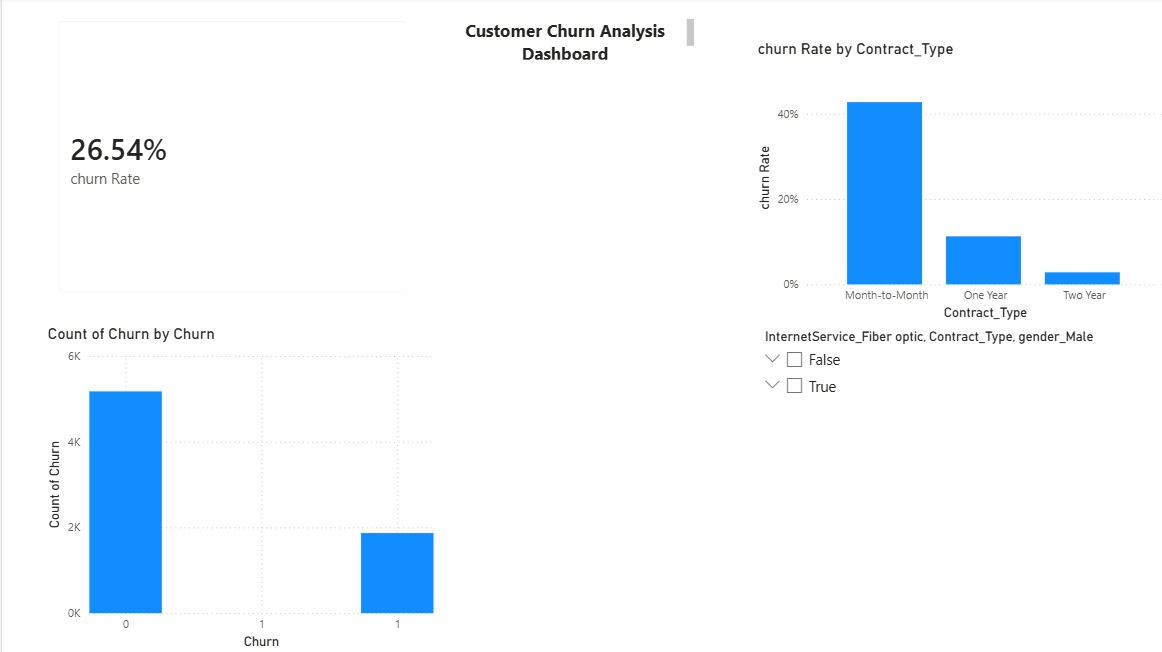

The page's visual inventory and layout, read from the dashboard file:
{"tool":"powerbi","page":{"name":"Page 1","canvas":[1280,720],"ordinal":0},"visuals":[{"type":"cardVisual","fields":{"Data":["final_churn_data.churn Rate"]},"box":[45.3,9.6,415.8,332.1],"z":0},{"type":"clusteredColumnChart","fields":{"Category":["final_churn_data.Churn"],"Y":["CountNonNull(final_churn_data.Churn)"]},"box":[45.3,359.5,433.6,360.9],"z":1000},{"type":"clusteredColumnChart","fields":{"Y":["final_churn_data.churn Rate"],"Category":["final_churn_data.Contract_Type"]},"box":[824.7,46.7,455.6,312.9],"z":2000},{"type":"slicer","fields":{"Values":["final_churn_data.InternetService_Fiber optic","final_churn_data.Contract_Type","final_churn_data.gender_Male"]},"box":[824.7,359.5,455.6,360.9],"z":3000},{"type":"textbox","box":[478.9,19.2,285.4,54.9],"z":3001}]}

Visuals, with their boxes in screenshot pixels (x1, y1, x2, y2), scaled from the page's 1280x720 canvas onto the 1162x652 screenshot:
cardVisual - final_churn_data.churn Rate: select_region(41, 9, 419, 309)
clusteredColumnChart - final_churn_data.Churn x CountNonNull(final_churn_data.Churn): select_region(41, 326, 435, 651)
clusteredColumnChart - final_churn_data.churn Rate x final_churn_data.Contract_Type: select_region(749, 42, 1161, 326)
slicer - final_churn_data.InternetService_Fiber optic x final_churn_data.Contract_Type: select_region(749, 326, 1161, 651)
textbox: select_region(435, 17, 694, 67)
